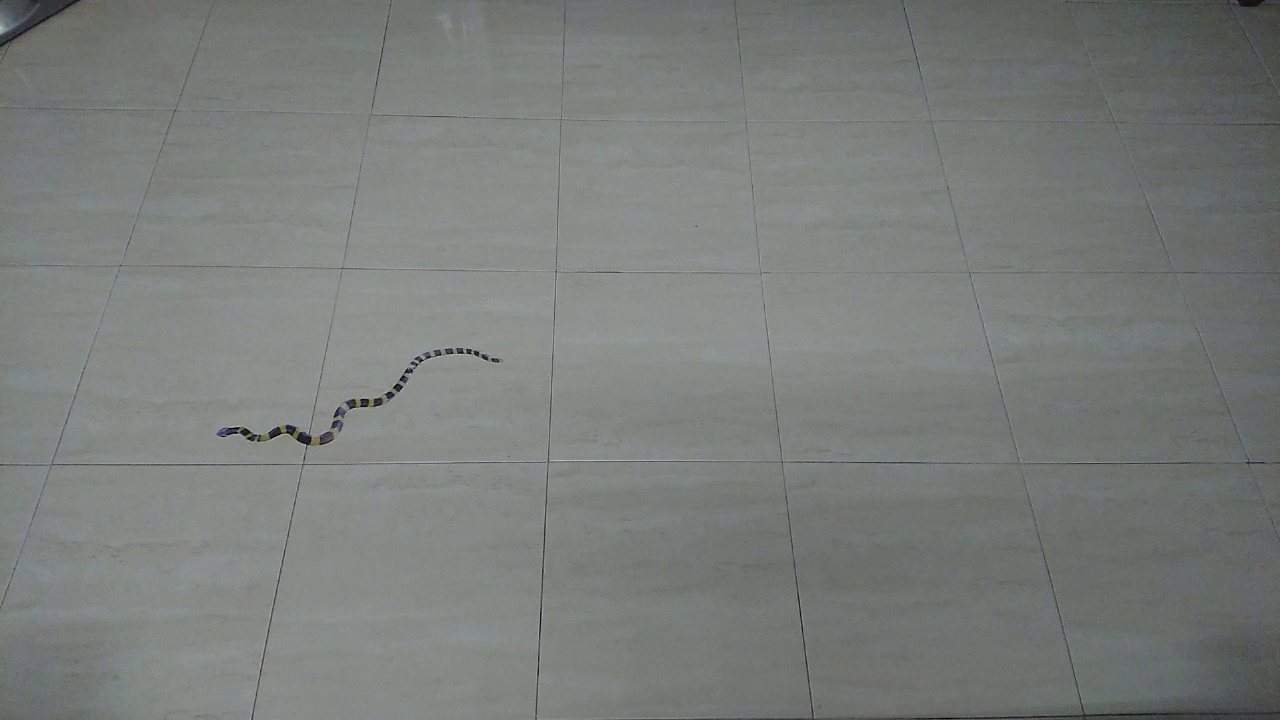snake: (205, 336, 520, 458)
